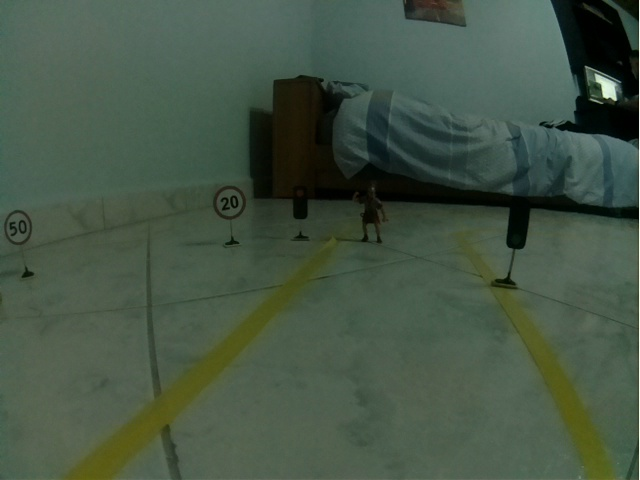Green Traffic Light: (506, 198, 531, 249)
Person: (354, 181, 388, 243)
Red Traffic Light: (292, 184, 308, 219)
Speed Limit 20: (213, 186, 246, 220)
Speed Limit 50: (4, 210, 32, 245)
